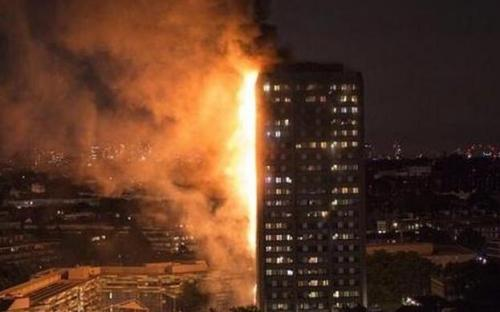fire: (220, 67, 267, 271)
smoke: (11, 12, 197, 187)
